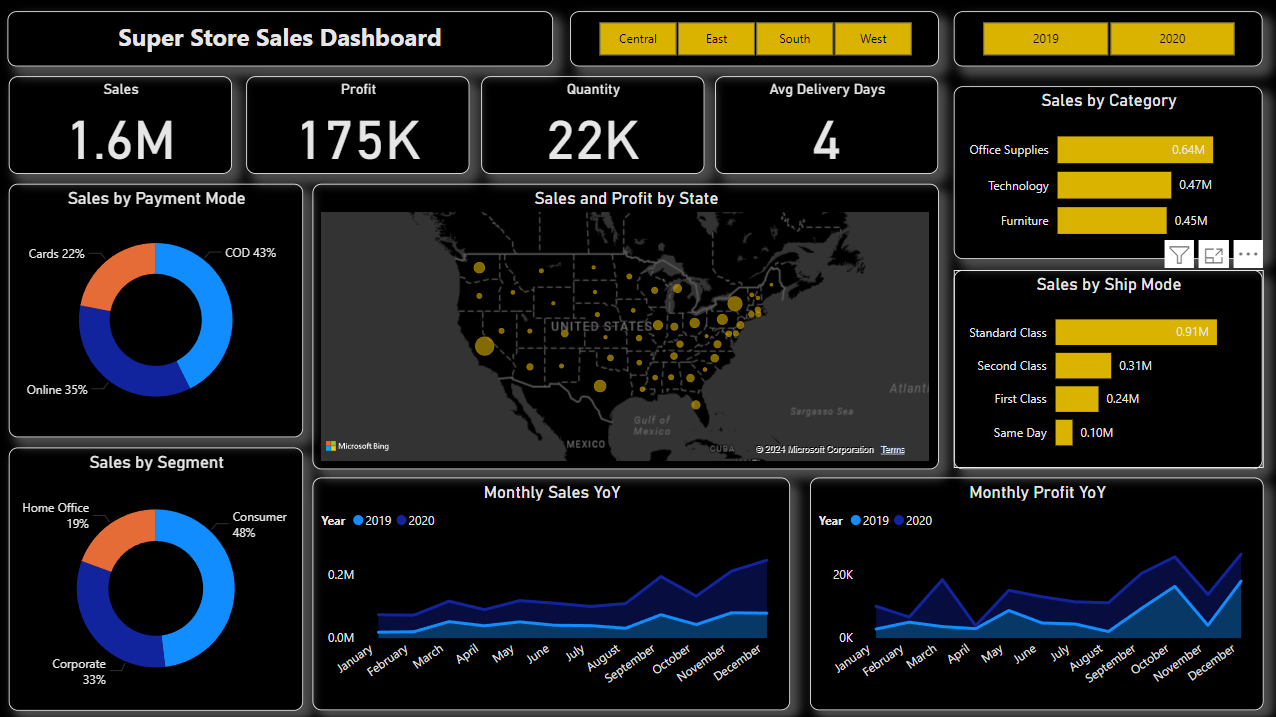

Layout of this report page (visuals, bound fields, positions):
{"tool":"powerbi","page":{"name":"Page 1","canvas":[1280,720],"ordinal":0},"visuals":[{"type":"barChart","title":"Sales by Category","fields":{"Y":["Sum(SuperStore_Sales_Dataset.Sales)"],"Category":["SuperStore_Sales_Dataset.Category","SuperStore_Sales_Dataset.Sub-Category"]},"box":[954.3,85.7,308.8,172.5],"z":0},{"type":"barChart","title":"Sales by Ship Mode","fields":{"Y":["Sum(SuperStore_Sales_Dataset.Sales)"],"Category":["SuperStore_Sales_Dataset.Ship Mode"]},"box":[954.3,270.2,308.8,199.1],"z":2000},{"type":"stackedAreaChart","title":"Monthly Sales YoY","fields":{"Y":["Sum(SuperStore_Sales_Dataset.Sales)"],"Category":["SuperStore_Sales_Dataset.Order Date.Variation.Date Hierarchy.Month","SuperStore_Sales_Dataset.Order Date.Variation.Date Hierarchy.Day"],"Series":["SuperStore_Sales_Dataset.Order Date.Variation.Date Hierarchy.Year"]},"box":[312.5,477.8,477.8,232.8],"z":3000},{"type":"stackedAreaChart","title":"Monthly Profit YoY","fields":{"Category":["SuperStore_Sales_Dataset.Order Date.Variation.Date Hierarchy.Month","SuperStore_Sales_Dataset.Order Date.Variation.Date Hierarchy.Day"],"Series":["SuperStore_Sales_Dataset.Order Date.Variation.Date Hierarchy.Year"],"Y":["Sum(SuperStore_Sales_Dataset.Profit)"]},"box":[809.5,477.8,453.6,232.8],"z":4000},{"type":"map","title":"Sales and Profit by State","fields":{"Category":["SuperStore_Sales_Dataset.State"],"Size":["Sum(SuperStore_Sales_Dataset.Sales)"]},"box":[312.5,183.4,626.1,285.9],"z":5000},{"type":"donutChart","title":"Sales by Segment","fields":{"Y":["Sum(SuperStore_Sales_Dataset.Sales)"],"Category":["SuperStore_Sales_Dataset.Segment"]},"box":[8.4,447.6,294.4,263],"z":6000},{"type":"donutChart","title":"Sales by Payment Mode","fields":{"Y":["Sum(SuperStore_Sales_Dataset.Sales)"],"Category":["SuperStore_Sales_Dataset.Payment Mode"]},"box":[8.4,183.4,294.4,253.4],"z":7000},{"type":"slicer","fields":{"Values":["SuperStore_Sales_Dataset.Region"]},"box":[569.4,10.9,369.2,55.5],"z":8000},{"type":"textbox","box":[7.2,10.9,545.3,55.5],"z":9000},{"type":"card","title":"Sales","fields":{"Values":["Sum(SuperStore_Sales_Dataset.Sales)"]},"box":[8.4,76,223.2,97.7],"z":10000},{"type":"card","title":"Profit","fields":{"Values":["Sum(SuperStore_Sales_Dataset.Profit)"]},"box":[246.1,76,223.2,97.7],"z":11000},{"type":"card","title":"Quantity ","fields":{"Values":["Sum(SuperStore_Sales_Dataset.Quantity)"]},"box":[481.4,76,223.2,97.7],"z":12000},{"type":"card","title":"Avg Delivery Days ","fields":{"Values":["Avg(SuperStore_Sales_Dataset.Avg Delivery)"]},"box":[715.4,76,223.2,97.7],"z":13000},{"type":"slicer","fields":{"Values":["SuperStore_Sales_Dataset.Year"]},"box":[954.3,10.9,308.8,55.5],"z":13001}]}

Visuals, with their boxes in screenshot pixels (x1, y1, x2, y2), scaled from the page's 1280x720 canvas onto the 1276x717 screenshot:
"Sales by Category" barChart: region(951, 85, 1259, 257)
"Sales by Ship Mode" barChart: region(951, 269, 1259, 467)
"Monthly Sales YoY" stackedAreaChart: region(312, 476, 788, 708)
"Monthly Profit YoY" stackedAreaChart: region(807, 476, 1259, 708)
"Sales and Profit by State" map: region(312, 183, 936, 467)
"Sales by Segment" donutChart: region(8, 446, 302, 708)
"Sales by Payment Mode" donutChart: region(8, 183, 302, 435)
slicer - SuperStore_Sales_Dataset.Region: region(568, 11, 936, 66)
textbox: region(7, 11, 551, 66)
"Sales" card: region(8, 76, 231, 173)
"Profit" card: region(245, 76, 468, 173)
"Quantity " card: region(480, 76, 702, 173)
"Avg Delivery Days " card: region(713, 76, 936, 173)
slicer - SuperStore_Sales_Dataset.Year: region(951, 11, 1259, 66)
